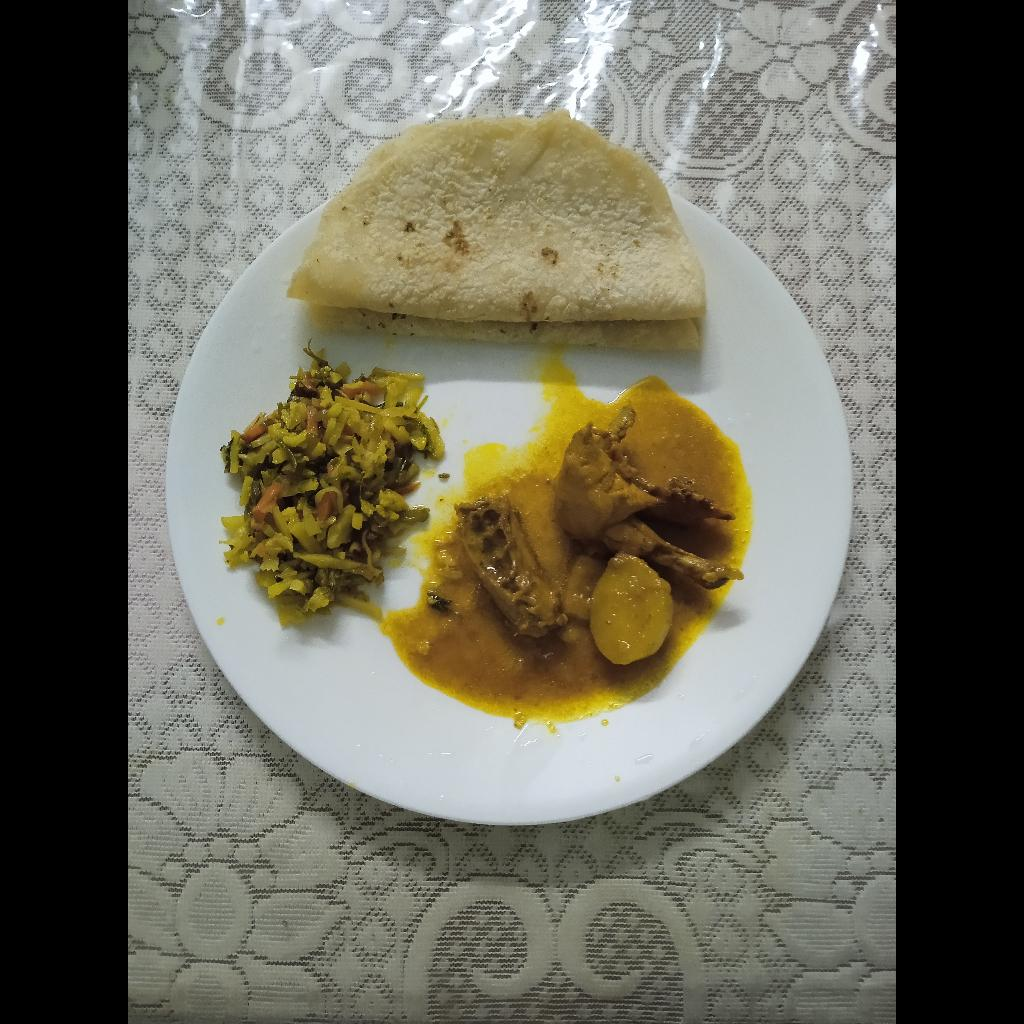chicken: (458, 400, 750, 639)
potato: (593, 560, 676, 673)
ruti: (276, 118, 701, 350)
vegetable: (223, 369, 430, 599)
